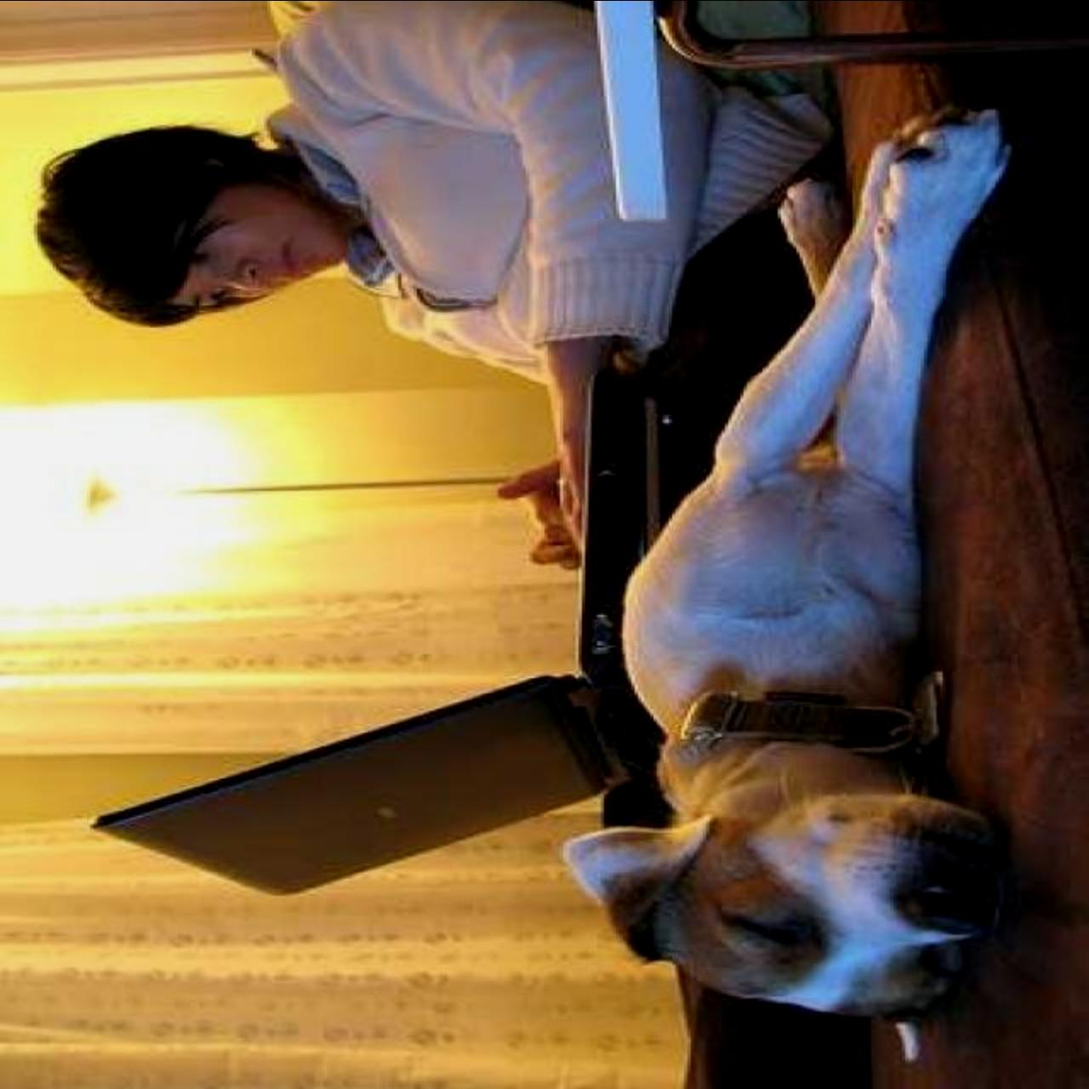laptop: (132, 368, 658, 860)
